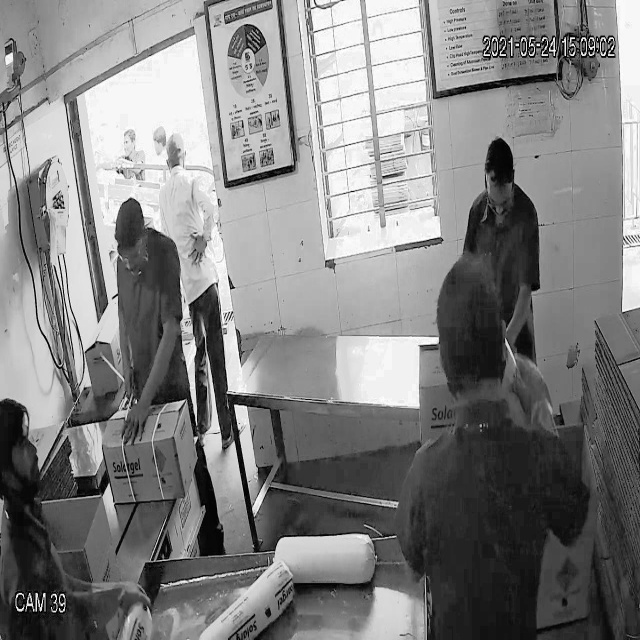Gafas: (114, 232, 147, 268)
